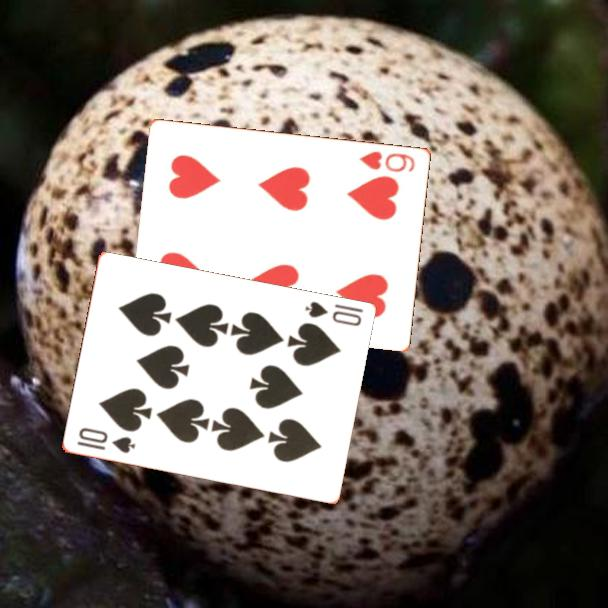h06: (356, 147, 418, 175)
s10: (73, 424, 138, 456), (301, 298, 366, 329)
